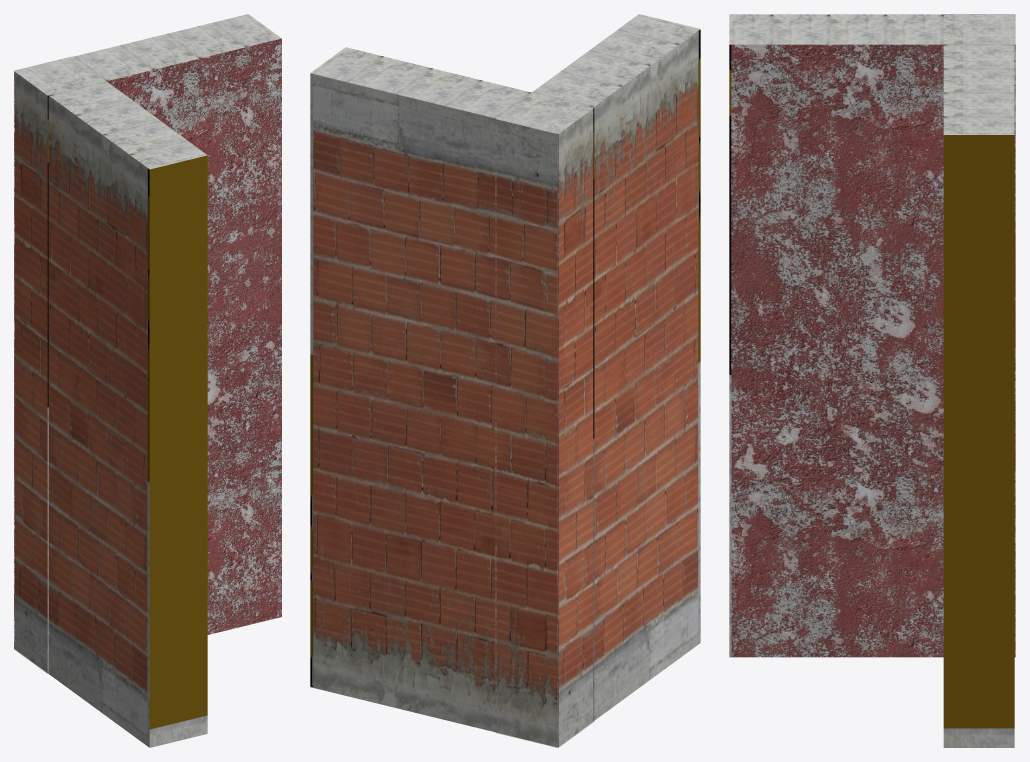
Rendered from wall_corner.fbx.
3 renders of one model, left to right at view 1: azimuth 30°, elevation 25°; view 2: azimuth 150°, elevation 25°; view 3: azimuth 270°, elevation 25°, orthographic. The views are drawn at different scales.
Visible parts, largest first — view 1: polySurface1; view 2: polySurface1; view 3: polySurface1.
Boxes of the visible parts, x1,y1,x2,y2 form: polySurface1: [14, 14, 281, 747]; polySurface1: [310, 14, 700, 747]; polySurface1: [729, 14, 1015, 747].
Bounding box in the file's own units: 5.38 × 12.69 × 5.38.
Materials: 1 (1 with a texture image).
